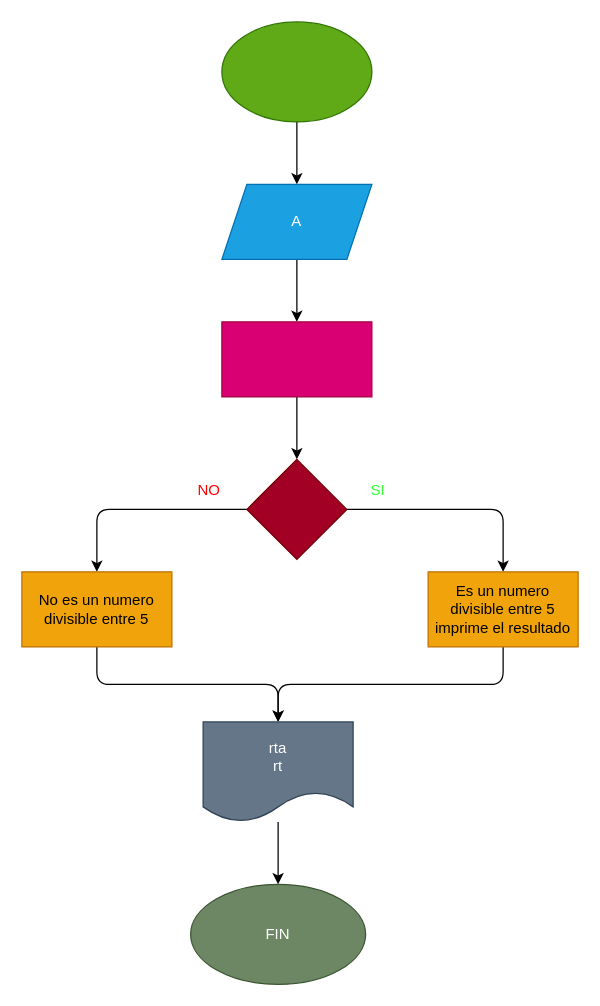
Image size: 600x1006. Some labels were removed from this diagram. The centre of each missing label's shape, as x and y in pixels:
"A %5 == 0" belongs at point (296, 508).
"A%5 A/5" belongs at point (296, 359).
"INICIO" belongs at point (296, 71).
